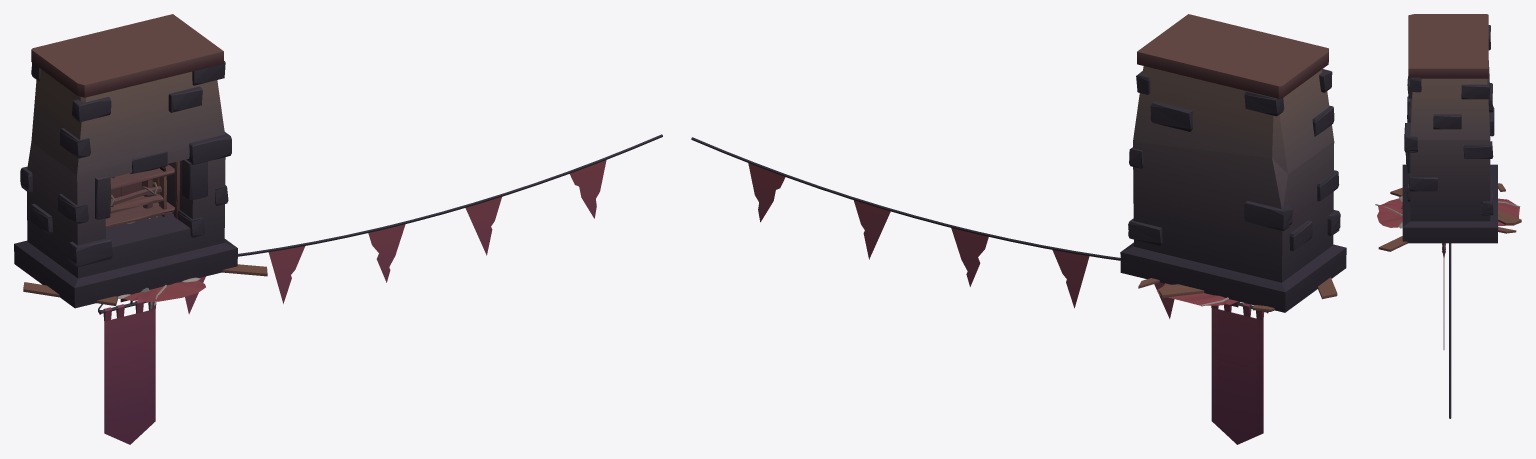
The picture shows the model from 3 angles, left to right: view 1: azimuth 30°, elevation 25°; view 2: azimuth 150°, elevation 25°; view 3: azimuth 270°, elevation 25°; orthographic projection. The views are drawn at different scales.
Parts seen in each view (by area): view 1: SM_Chimney_05, SM_Flag_02_E, SM_Rope_Flag_08m_A, SM_Cupboard_04_C, SM_Cloth_2A, SM_Wood_Pile_01_B, SM_Cupboard_01_C; view 2: SM_Chimney_05, SM_Flag_02_E, SM_Rope_Flag_08m_A, SM_Wood_Pile_01_B; view 3: SM_Chimney_05, SM_Cloth_2A, SM_Wood_Pile_01_B, SM_Rope_Flag_08m_A, SM_Flag_02_E.
Part boxes in pixels (x1,y1,x2,y2): SM_Chimney_05: (14, 14, 237, 308); SM_Flag_02_E: (98, 300, 156, 444); SM_Rope_Flag_08m_A: (185, 134, 662, 314); SM_Cupboard_04_C: (105, 161, 179, 228); SM_Cloth_2A: (123, 280, 205, 302); SM_Wood_Pile_01_B: (23, 264, 267, 305); SM_Cupboard_01_C: (110, 167, 166, 216); SM_Chimney_05: (1120, 14, 1346, 312); SM_Flag_02_E: (1211, 302, 1268, 444); SM_Rope_Flag_08m_A: (691, 137, 1174, 318); SM_Wood_Pile_01_B: (1138, 277, 1337, 311); SM_Chimney_05: (1402, 14, 1497, 243); SM_Cloth_2A: (1377, 198, 1519, 227); SM_Wood_Pile_01_B: (1378, 183, 1521, 251); SM_Rope_Flag_08m_A: (1449, 243, 1451, 418); SM_Flag_02_E: (1442, 243, 1445, 349).
Bounding box in the file's own units: 980 × 575 × 247.
1 material, 1 textured.
